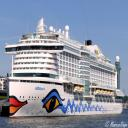cruises: (4, 17, 126, 119)
